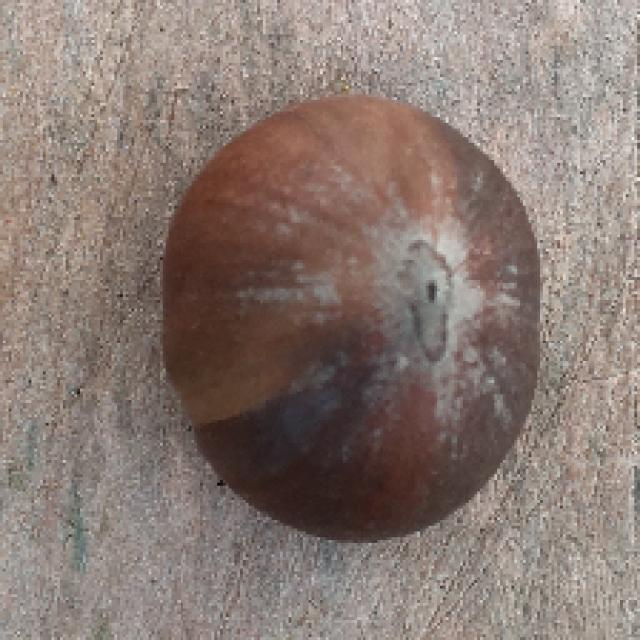qualityHazelnut: (156, 95, 549, 548)
